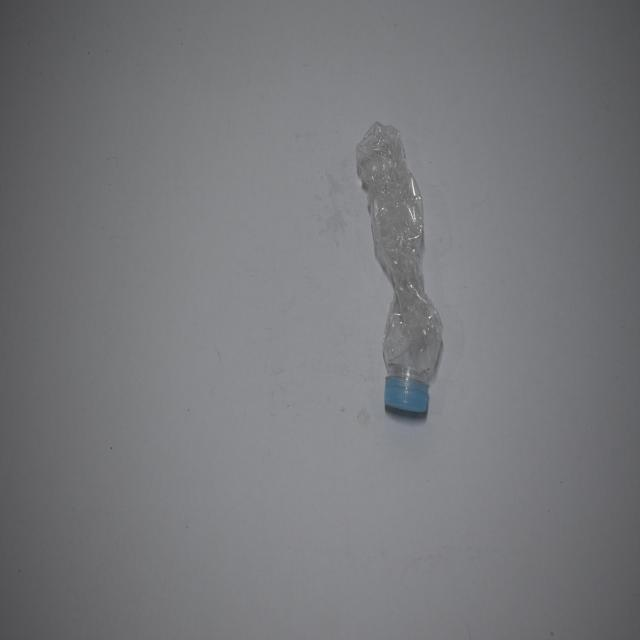bottle: (354, 110, 450, 436)
